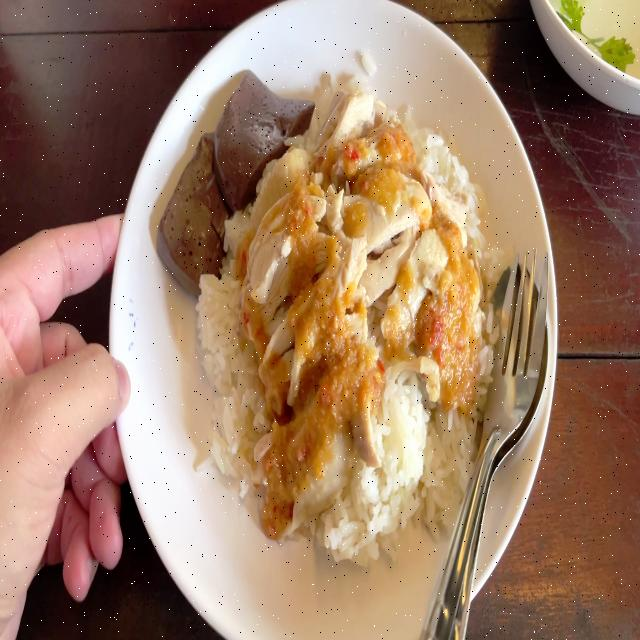boiled_chicken: (222, 84, 480, 465)
boiled_chicken_blood_jelly: (204, 65, 304, 199), (152, 134, 236, 276)
chicken_rice: (160, 67, 506, 556)
